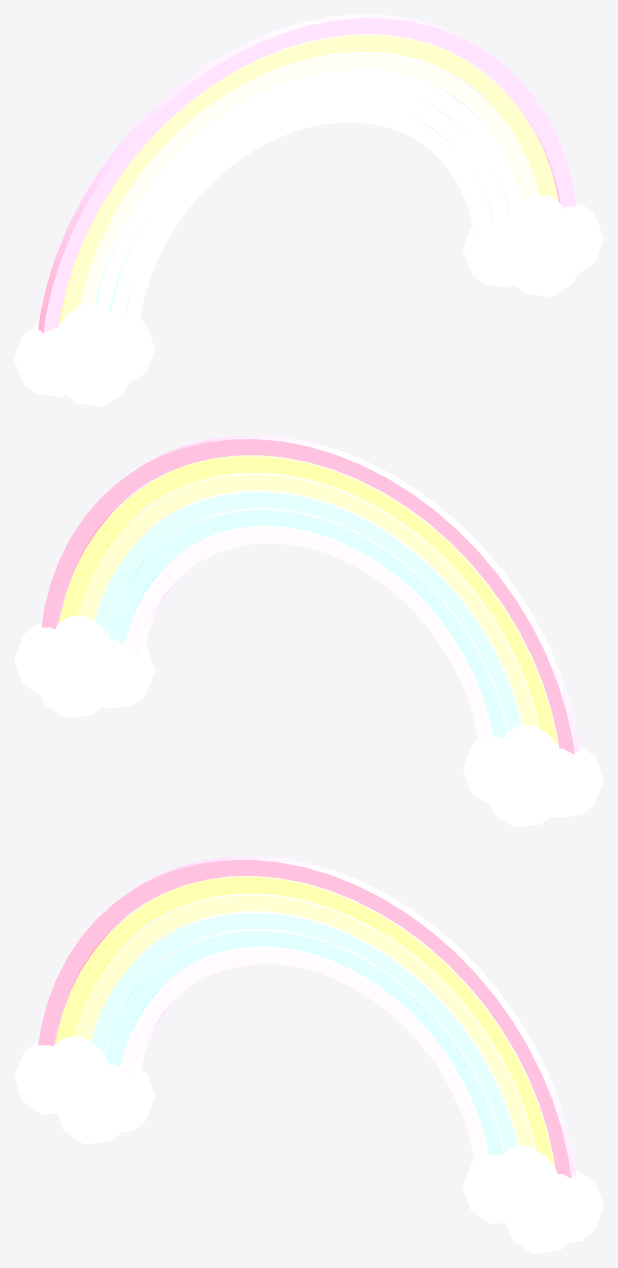
Rendered from dun_rainbow.glb.
3 views of the same model, one above another, from view 1: azimuth 30°, elevation 25°; view 2: azimuth 150°, elevation 25°; view 3: azimuth 330°, elevation 25° (orthographic).
Visible parts, largest first — view 1: dun_rainbow_cloudwhite_0, dun_rainbow_rb_red_0, dun_rainbow_rb_orange_0, dun_rainbow_rb_yellow_0, dun_rainbow_rb_green_0, dun_rainbow_rb_blue_0, dun_rainbow_rb_violet_0; view 2: dun_rainbow_cloudwhite_0, dun_rainbow_rb_red_0, dun_rainbow_rb_orange_0, dun_rainbow_rb_yellow_0, dun_rainbow_rb_green_0, dun_rainbow_rb_blue_0, dun_rainbow_rb_violet_0; view 3: dun_rainbow_cloudwhite_0, dun_rainbow_rb_red_0, dun_rainbow_rb_orange_0, dun_rainbow_rb_yellow_0, dun_rainbow_rb_green_0, dun_rainbow_rb_blue_0, dun_rainbow_rb_violet_0.
Part boxes in pixels (x1,y1,x2,y2): dun_rainbow_cloudwhite_0: [14, 193, 603, 406]; dun_rainbow_rb_red_0: [38, 14, 576, 333]; dun_rainbow_rb_orange_0: [59, 34, 558, 323]; dun_rainbow_rb_yellow_0: [78, 51, 539, 306]; dun_rainbow_rb_green_0: [95, 69, 522, 310]; dun_rainbow_rb_blue_0: [109, 87, 508, 317]; dun_rainbow_rb_violet_0: [125, 105, 492, 319]; dun_rainbow_cloudwhite_0: [14, 614, 603, 827]; dun_rainbow_rb_red_0: [41, 435, 579, 754]; dun_rainbow_rb_orange_0: [59, 455, 558, 744]; dun_rainbow_rb_yellow_0: [78, 472, 539, 727]; dun_rainbow_rb_green_0: [95, 490, 522, 731]; dun_rainbow_rb_blue_0: [109, 508, 508, 738]; dun_rainbow_rb_violet_0: [125, 526, 492, 740]; dun_rainbow_cloudwhite_0: [14, 1035, 603, 1253]; dun_rainbow_rb_red_0: [38, 856, 576, 1178]; dun_rainbow_rb_orange_0: [55, 876, 554, 1165]; dun_rainbow_rb_yellow_0: [74, 893, 535, 1148]; dun_rainbow_rb_green_0: [91, 911, 518, 1152]; dun_rainbow_rb_blue_0: [105, 929, 504, 1155]; dun_rainbow_rb_violet_0: [121, 946, 488, 1161].
Size of the model in its own units: 7.75 by 4.2 by 0.9.
